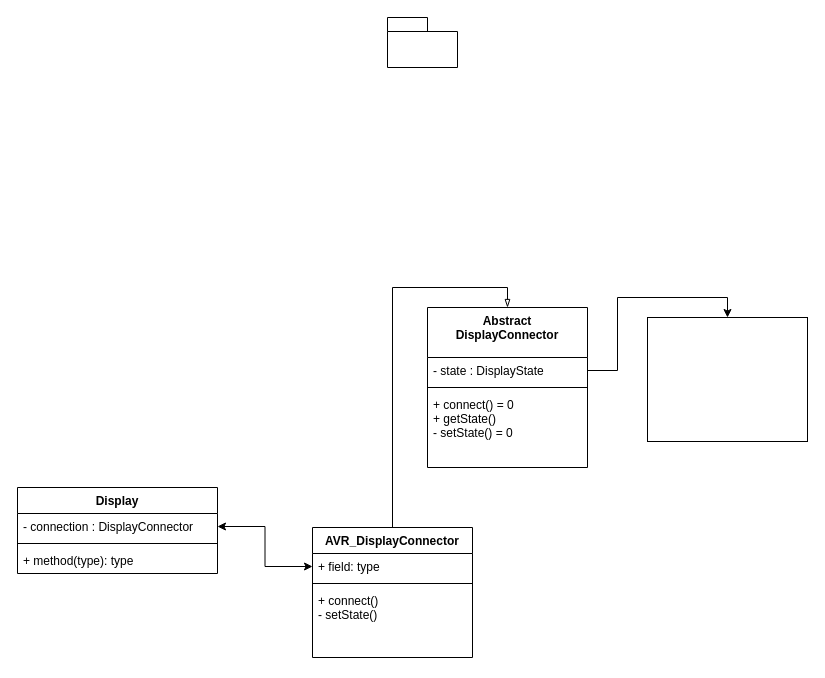
Some shapes in this 825 by 678 pixel diagram are drawn without their labels. Here are the shapes that lost their labels. From the top down, the centre of each, then its label:
At [422,42]: "Nextion".
At [727,379]: "Enum DisplayState Disconnected = 0 Connected = 1".
